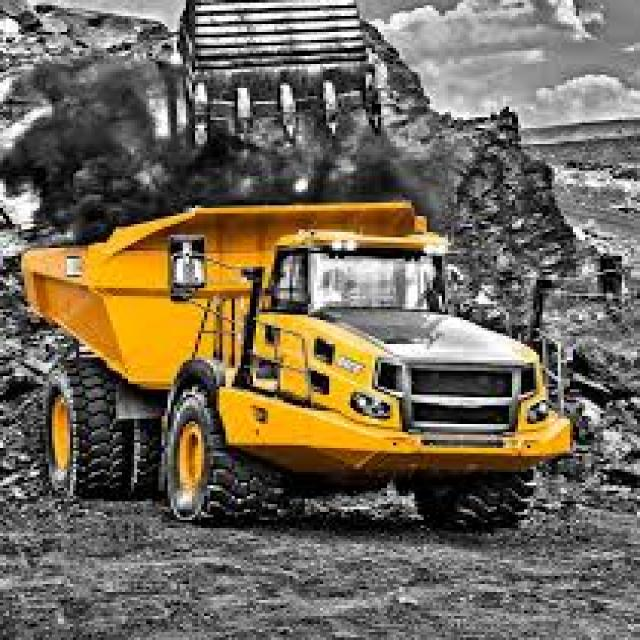dump_truck: (28, 197, 594, 560)
